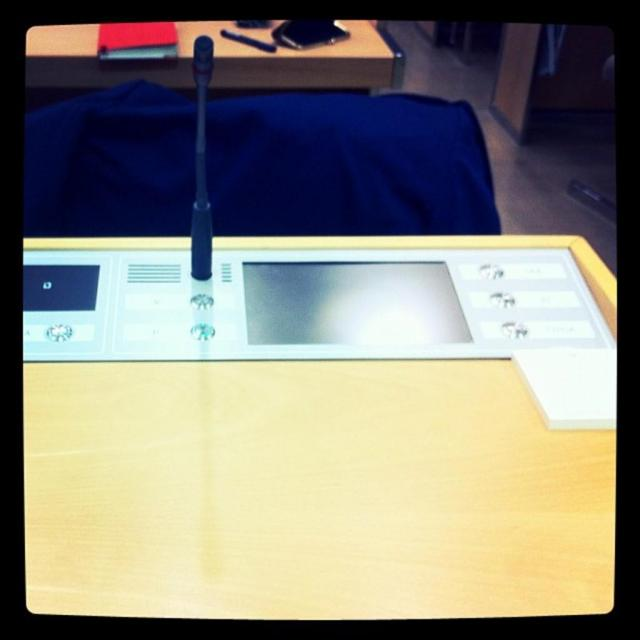Table: (24, 112, 640, 624)
